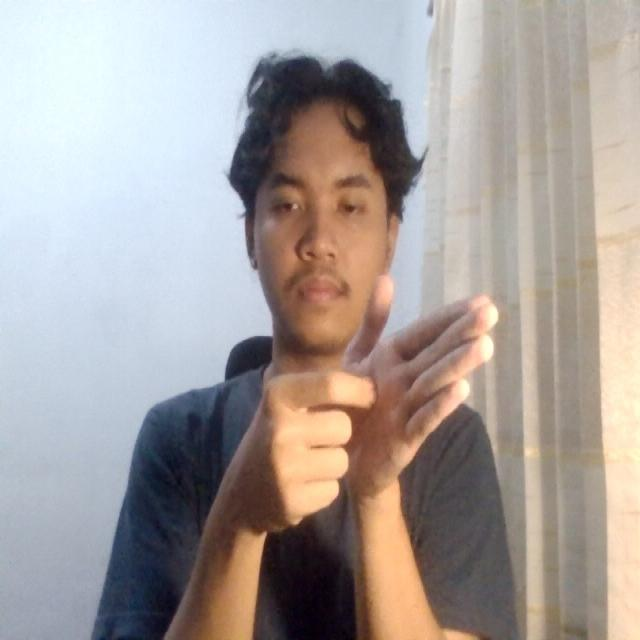L: (225, 267, 505, 545)
